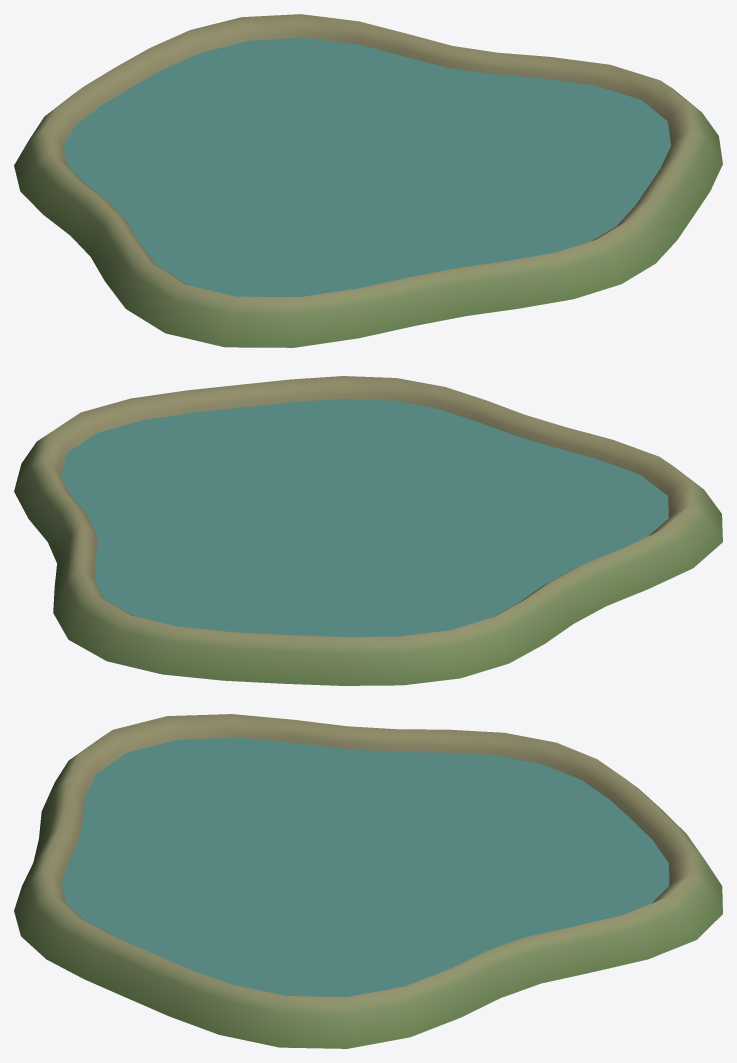
File: wetland.glb
The picture shows the model from 3 angles, top to bottom: view 1: azimuth 30°, elevation 25°; view 2: azimuth 150°, elevation 25°; view 3: azimuth 270°, elevation 25°; orthographic projection. The views are drawn at different scales.
Parts seen in each view (by area): view 1: Water, Wetland; view 2: Water, Wetland; view 3: Water, Wetland.
Boxes of the visible parts, bbox=[...] form: Water: bbox=[63, 38, 671, 296]; Wetland: bbox=[14, 14, 722, 347]; Water: bbox=[61, 399, 668, 636]; Wetland: bbox=[14, 376, 722, 685]; Water: bbox=[61, 737, 669, 996]; Wetland: bbox=[14, 714, 722, 1048].
Size of the model in its own units: 2.22 by 0.127 by 2.15.
